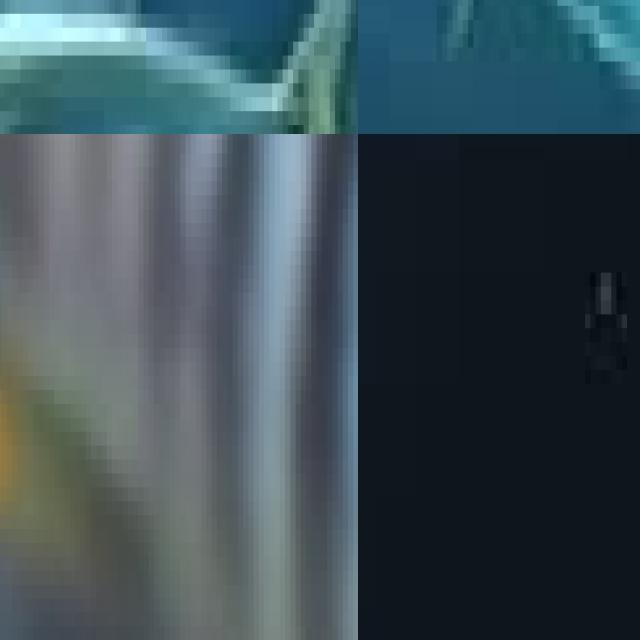fish: (0, 0, 358, 134), (426, 0, 640, 130)
